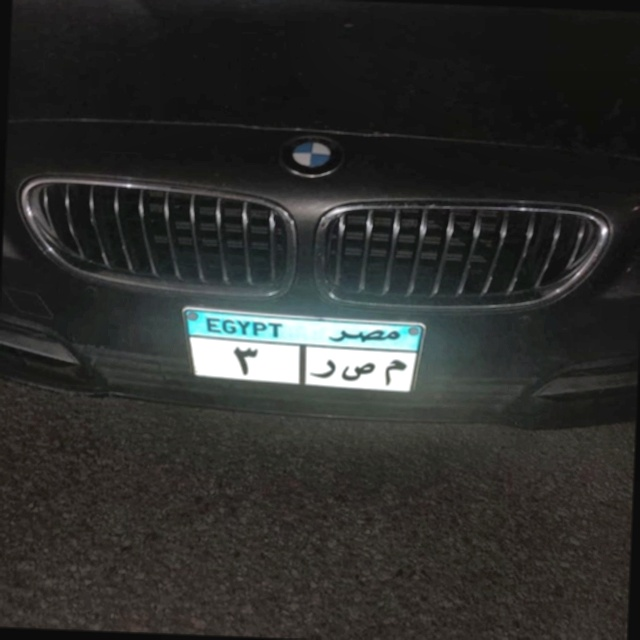License Plate: (178, 304, 427, 394)
